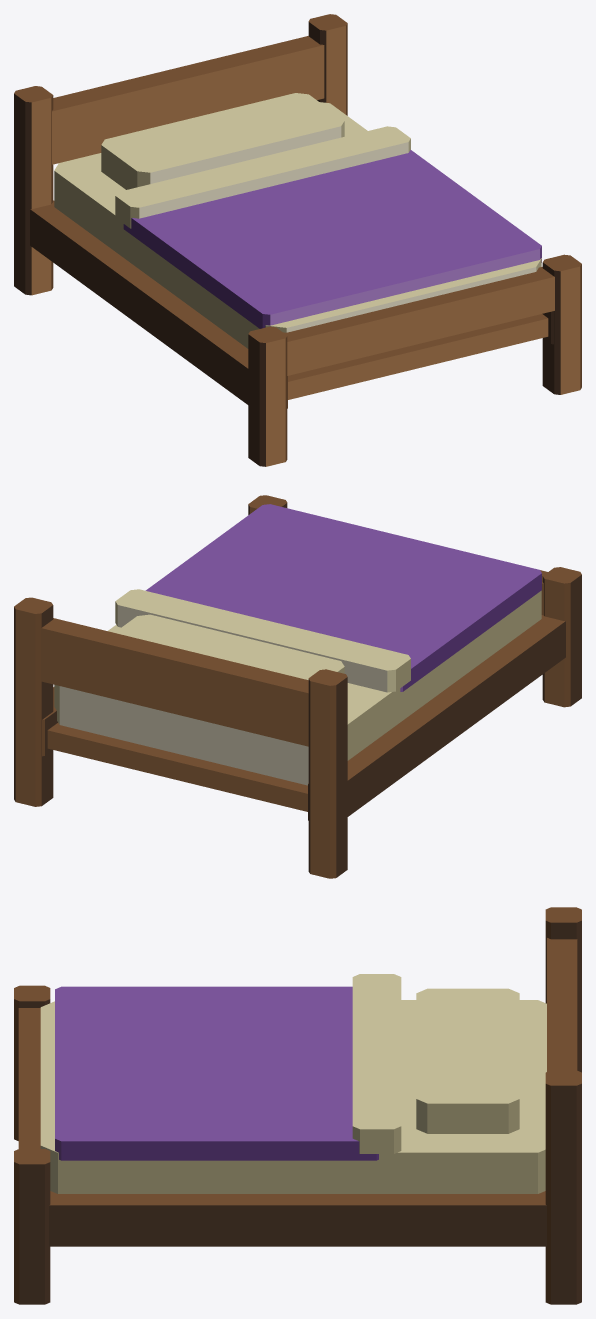
Rendered from bed.fbx.
3 renders of one model, top to bottom at view 1: azimuth 30°, elevation 25°; view 2: azimuth 150°, elevation 25°; view 3: azimuth 270°, elevation 25°, orthographic. The views are drawn at different scales.
Visible parts, largest first — view 1: bed_body; view 2: bed_body; view 3: bed_body.
Boxes of the visible parts, x1,y1,x2,y2 form: bed_body: (14,14,581,466); bed_body: (14,495,581,878); bed_body: (14,907,581,1304).
Bounding box in the file's own units: 2.78 × 1.59 × 3.74.
1 material, 1 textured.
